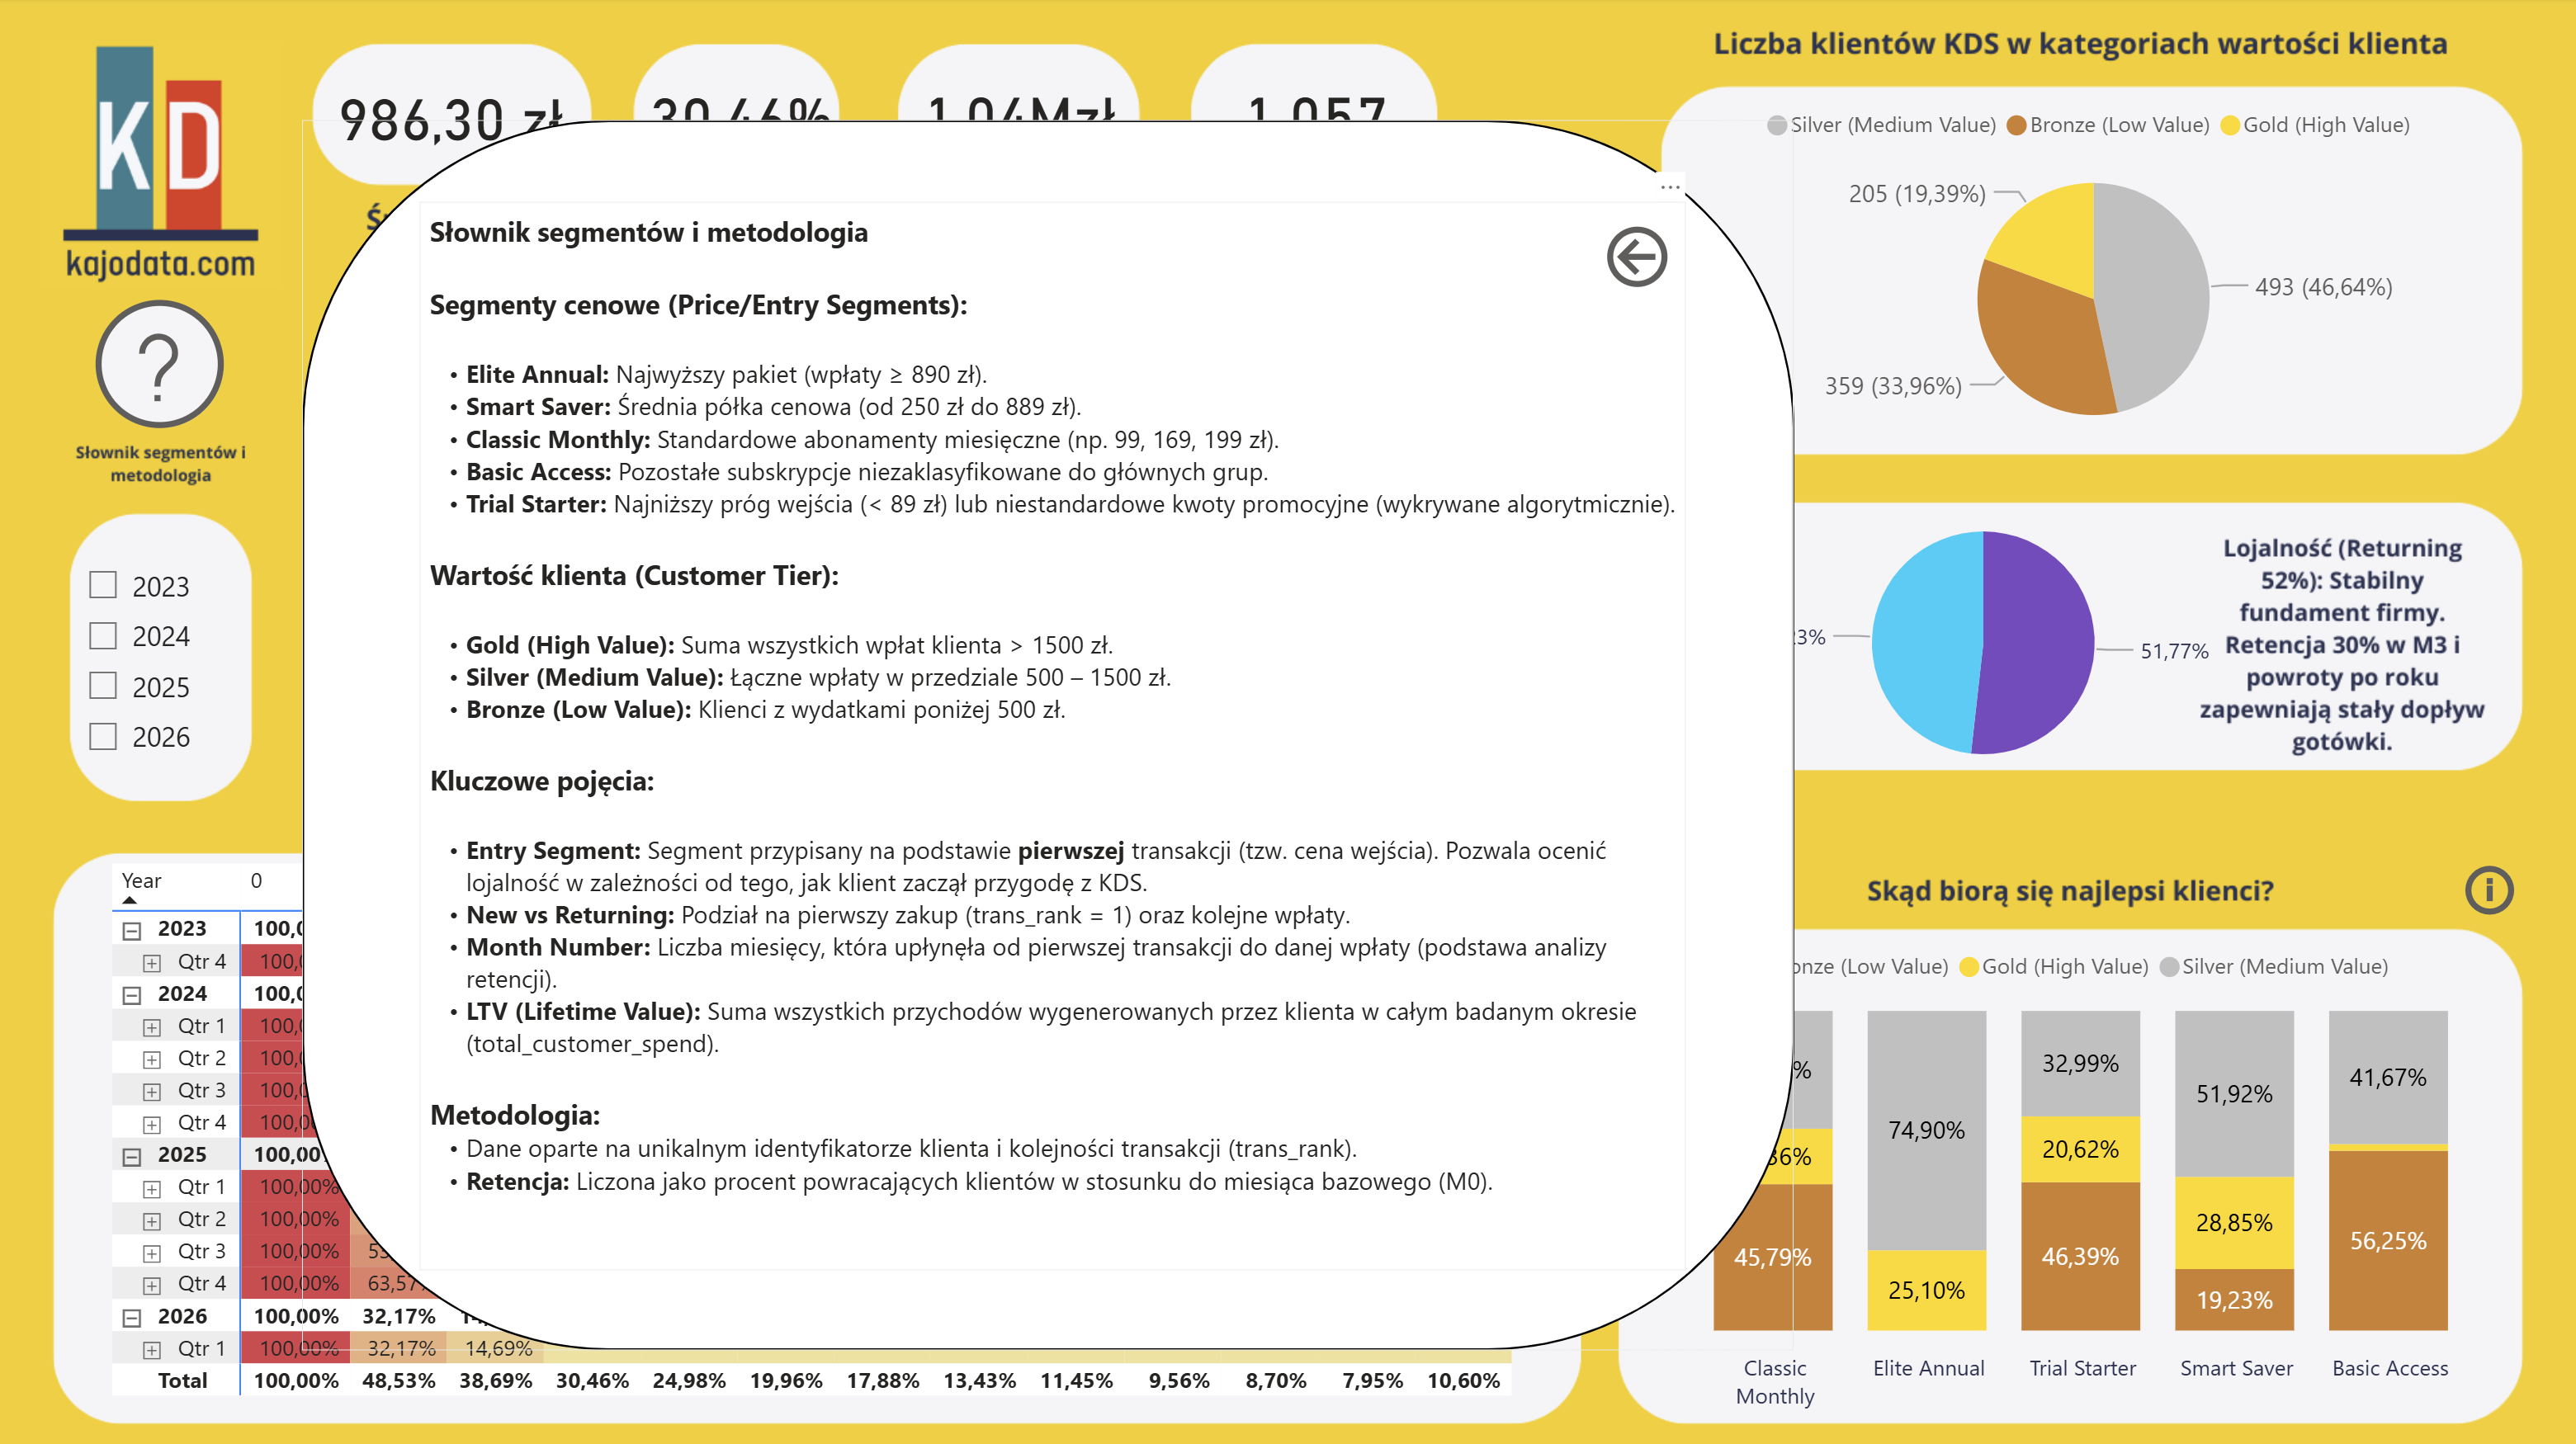

What the dashboard file says about the page in this screenshot:
{"tool":"powerbi","page":{"name":"Dashboard","canvas":[1280,720],"ordinal":0},"visuals":[{"type":"pivotTable","fields":{"Rows":["kds_challenge kds_final_data.cohort_month.Variation.Date Hierarchy.Year","kds_challenge kds_final_data.cohort_month.Variation.Date Hierarchy.Quarter","kds_challenge kds_final_data.cohort_month.Variation.Date Hierarchy.Month","kds_challenge kds_final_data.cohort_month.Variation.Date Hierarchy.Day"],"Columns":["kds_challenge kds_final_data.month_number"],"Values":["Measures Table.% Retention"]},"box":[51.6,424.3,733.1,283.7],"z":0},{"type":"lineChart","title":"Wykres lojalności względem kwoty wejścia do KDS","fields":{"Category":["kds_challenge kds_final_data.month_number"],"Y":["kds_challenge kds_final_data.% Retention"],"Series":["kds_challenge kds_final_data.entry_segment"]},"box":[155.3,163.9,523.1,206.3],"z":1000},{"type":"slicer","fields":{"Values":["kds_challenge kds_final_data.cohort_month.Variation.Date Hierarchy.Year"]},"box":[32.7,273.6,92.9,121.2],"z":2000},{"type":"hundredPercentStackedColumnChart","title":"Wartość LTV (Lifetime Value) w zależności od segmentu klienta","fields":{"Category":["kds_challenge kds_final_data.entry_segment"],"Series":["kds_challenge kds_final_data.customer_tier"],"Y":["Measures Table.Total Customers"]},"box":[804.3,461.7,448.2,246.2],"z":3000},{"type":"card","fields":{"Values":["kds_challenge kds_final_data.LTV"]},"box":[155.3,23.3,138.8,70],"z":4000},{"type":"card","fields":{"Values":["kds_challenge kds_final_data.KPI_Retention_M3"]},"box":[313.3,23.3,110.8,69.2],"z":5000},{"type":"pieChart","fields":{"Category":["kds_challenge kds_final_data.customer_segment"],"Y":["Sum(kds_challenge kds_final_data.amount)"]},"box":[785,244.2,398.3,150.8],"z":6000},{"type":"pieChart","fields":{"Category":["kds_challenge kds_final_data.customer_tier"],"Y":["Measures Table.Total Customers"]},"box":[825.8,44.2,426.7,183.3],"z":7000},{"type":"card","fields":{"Values":["kds_challenge kds_final_data.Total Customers"]},"box":[591.7,22.5,122.5,70],"z":8000},{"type":"card","fields":{"Values":["kds_challenge kds_final_data.Total Revenue"]},"box":[447,22.7,119.7,70],"z":9000},{"type":"actionButton","box":[642.8,128.9,35.6,35],"z":11000},{"type":"actionButton","box":[40.5,141.2,79.8,81.7],"z":12000},{"type":"actionButton","box":[1219.4,424.3,33.2,37.5],"z":14000}]}

Visuals, with their boxes on the page's 1280x720 design canvas (x1, y1, x2, y2). These are canvas units, not pixel positions in the 2576x1444 screenshot, which may show the page scaled, cropped or inside an application window:
pivotTable - kds_challenge kds_final_data.cohort_month.Variation.Date Hierarchy.Year x kds_challenge kds_final_data.cohort_month.Variation.Date Hierarchy.Quarter: select_region(52, 424, 785, 708)
"Wykres lojalności względem kwoty wejścia do KDS" lineChart: select_region(155, 164, 678, 370)
slicer - kds_challenge kds_final_data.cohort_month.Variation.Date Hierarchy.Year: select_region(33, 274, 126, 395)
"Wartość LTV (Lifetime Value) w zależności od segmentu klienta" hundredPercentStackedColumnChart: select_region(804, 462, 1252, 708)
card - kds_challenge kds_final_data.LTV: select_region(155, 23, 294, 93)
card - kds_challenge kds_final_data.KPI_Retention_M3: select_region(313, 23, 424, 92)
pieChart - kds_challenge kds_final_data.customer_segment x Sum(kds_challenge kds_final_data.amount): select_region(785, 244, 1183, 395)
pieChart - kds_challenge kds_final_data.customer_tier x Measures Table.Total Customers: select_region(826, 44, 1252, 228)
card - kds_challenge kds_final_data.Total Customers: select_region(592, 22, 714, 92)
card - kds_challenge kds_final_data.Total Revenue: select_region(447, 23, 567, 93)
actionButton: select_region(643, 129, 678, 164)
actionButton: select_region(40, 141, 120, 223)
actionButton: select_region(1219, 424, 1253, 462)
